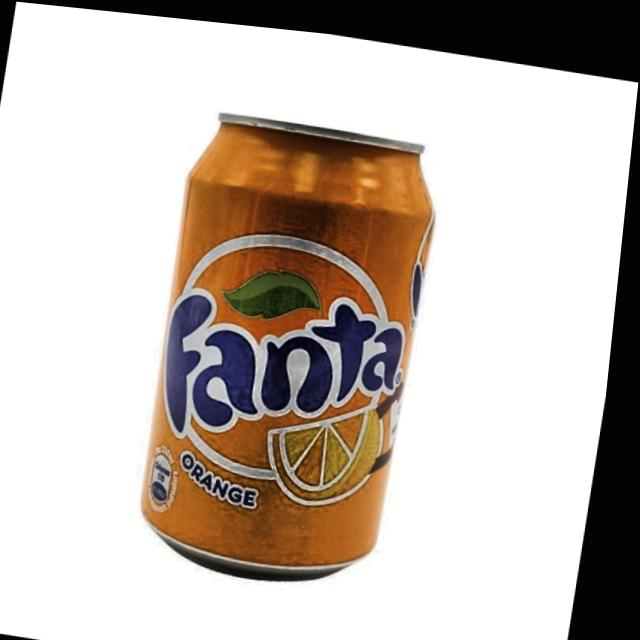Cans: (113, 78, 467, 614)
